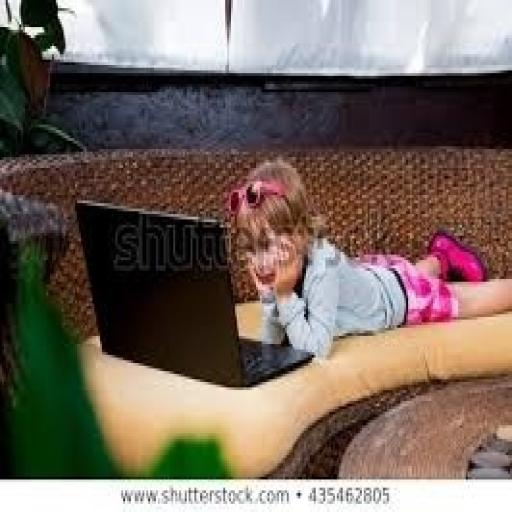using_laptop: (71, 195, 316, 390)
